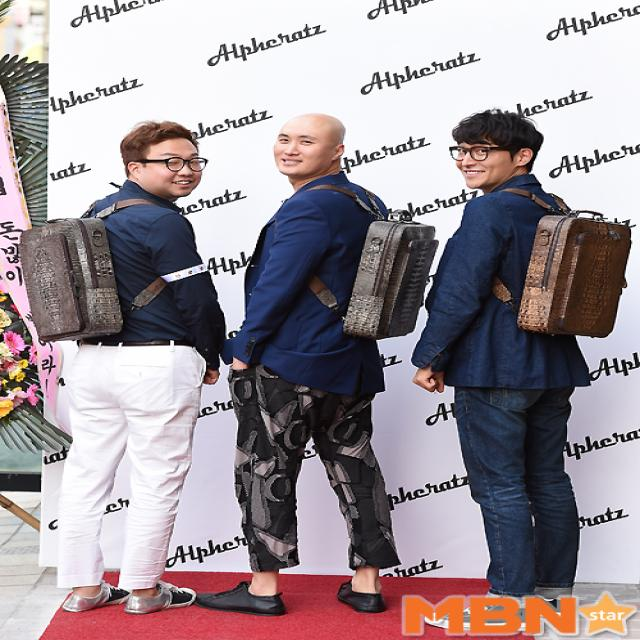backpack: (7, 189, 187, 347)
